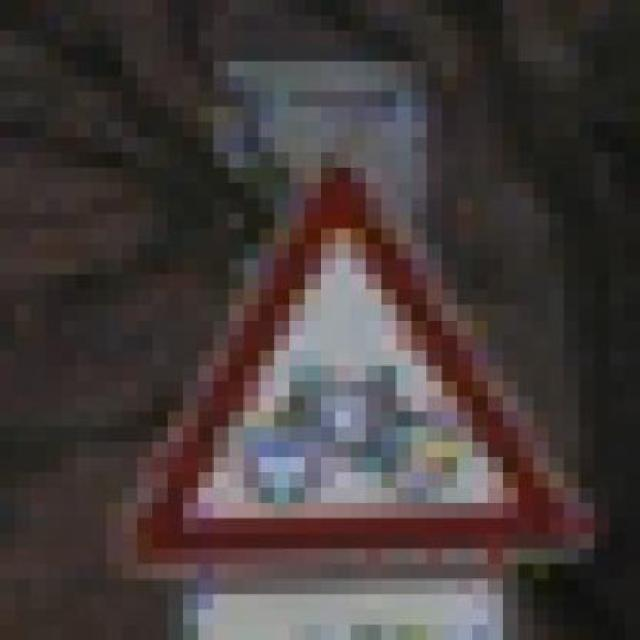CYCLE ROUTE AHEAD WARNING: (92, 152, 610, 594)
